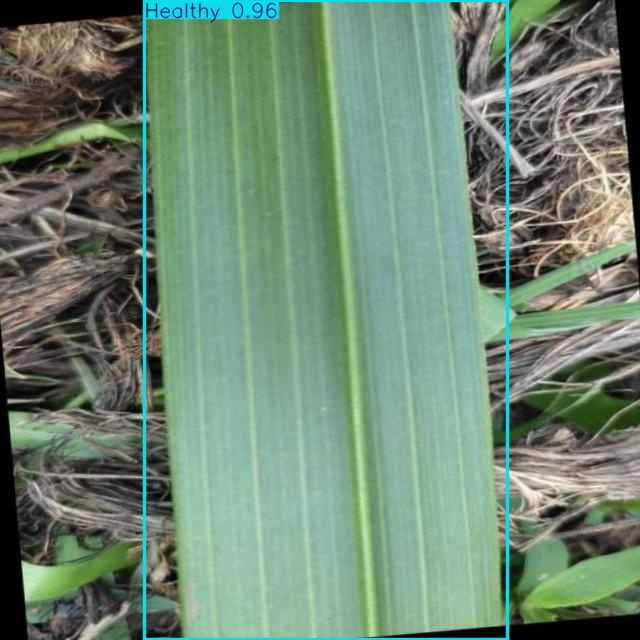Healthy: (144, 0, 507, 640)
